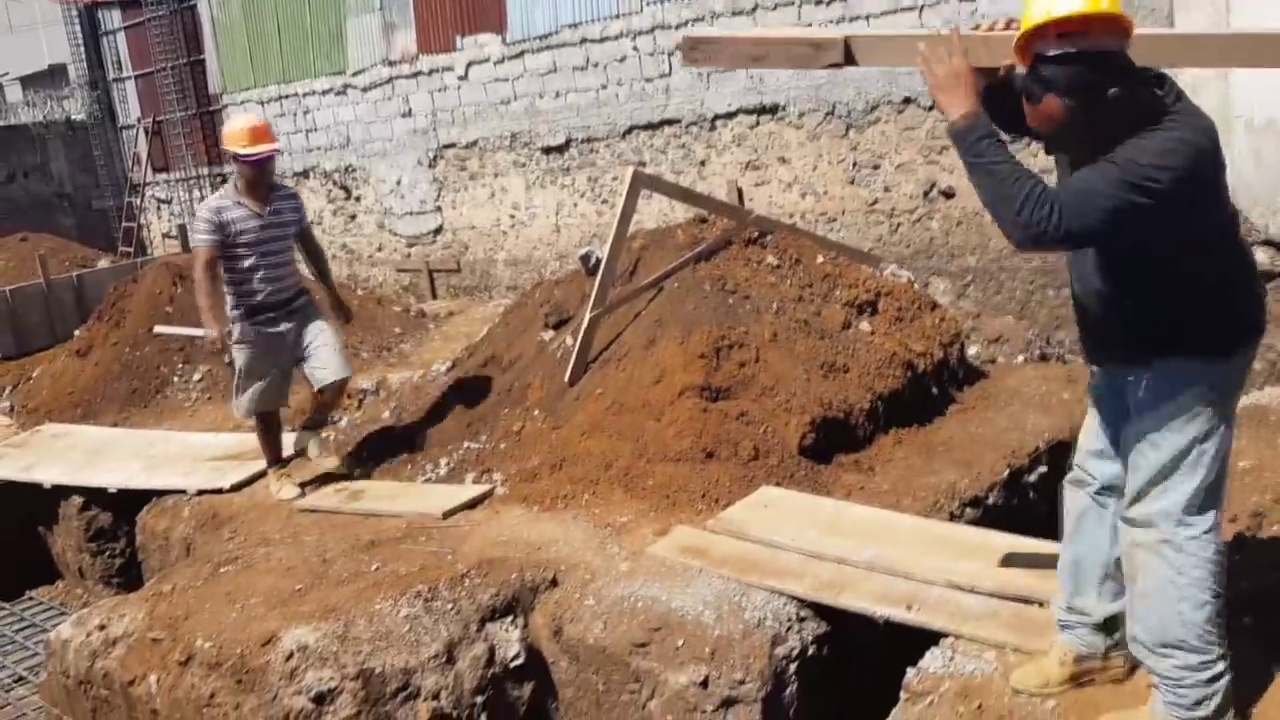helmet: (1012, 1, 1137, 67), (218, 115, 285, 160)
helmet-on: (1012, 0, 1156, 165), (219, 117, 284, 200)
person: (922, 0, 1270, 720), (190, 115, 355, 504)
